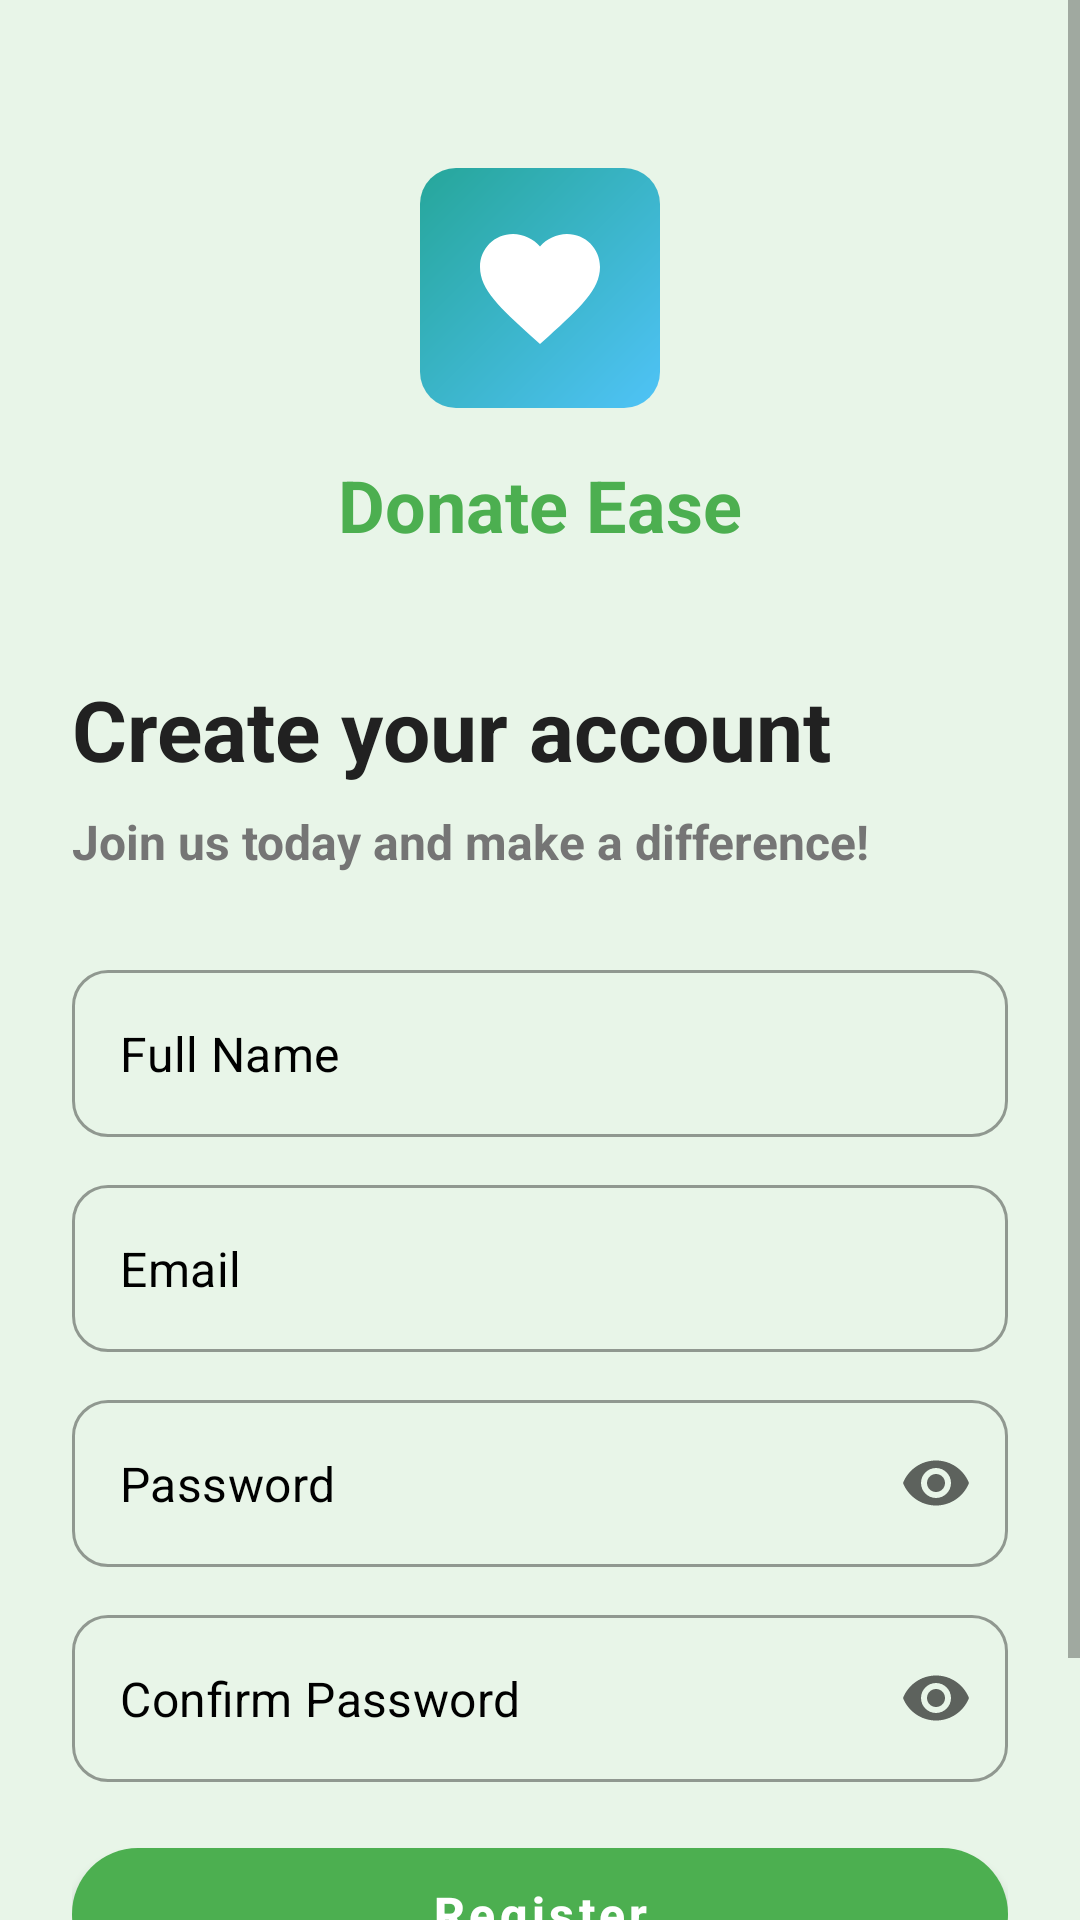

Icon click points for this 1080 x 1920 phone screenshot, format point (x, y):
donate heart: point (540, 288)
